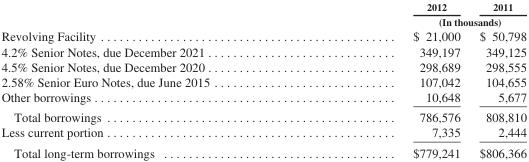table: (0, 0, 525, 159)
table column: (0, 0, 311, 159), (311, 0, 469, 159), (469, 0, 525, 159)
table column header: (0, 0, 525, 28)
table row: (0, 106, 525, 124), (0, 124, 525, 142), (0, 89, 525, 106), (0, 142, 525, 159), (0, 58, 525, 74), (0, 28, 525, 43), (0, 43, 525, 58), (0, 74, 525, 89), (0, 0, 525, 14), (0, 14, 525, 28)
table spanning cell: (311, 14, 525, 28)
